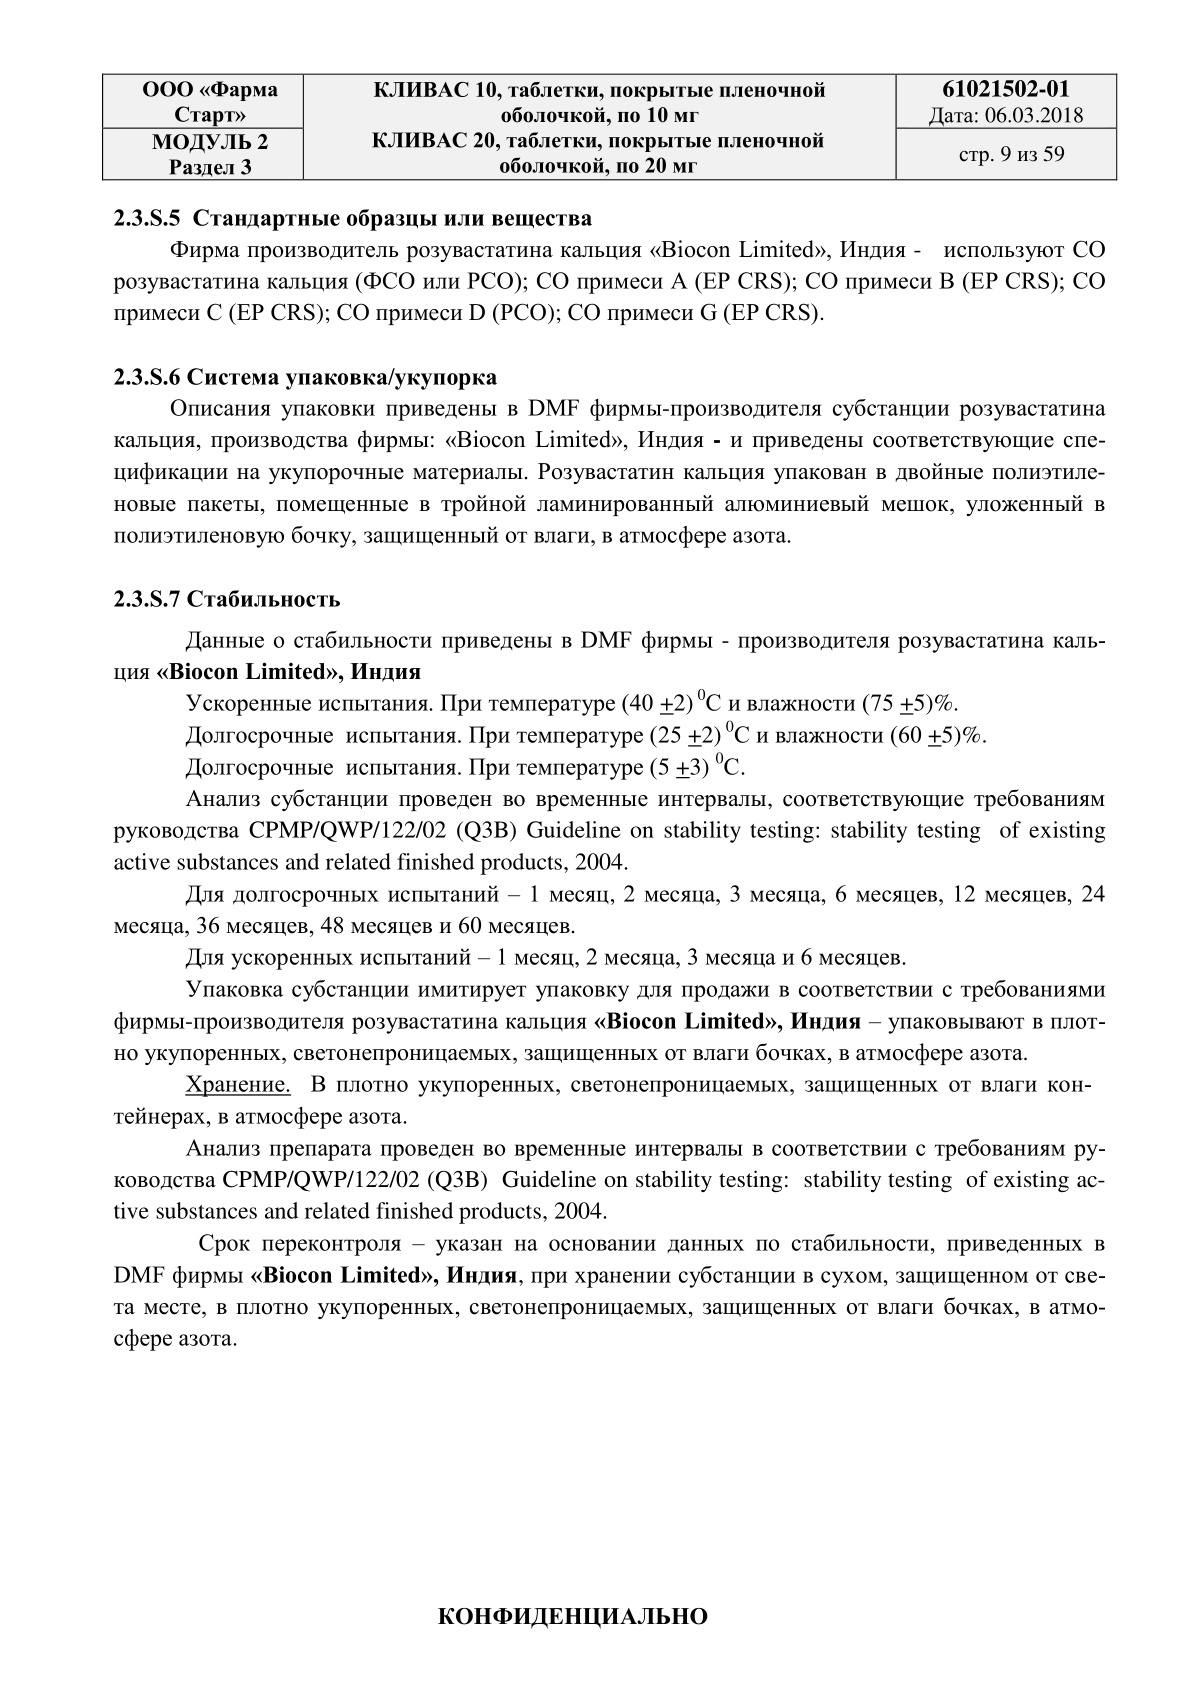merged_cells: (101, 71, 1119, 183)
